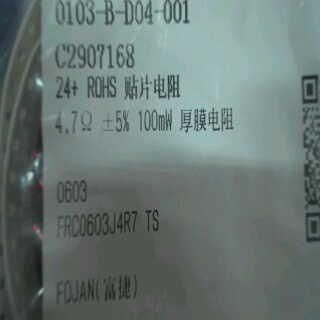4.7R: (52, 106, 94, 139)
